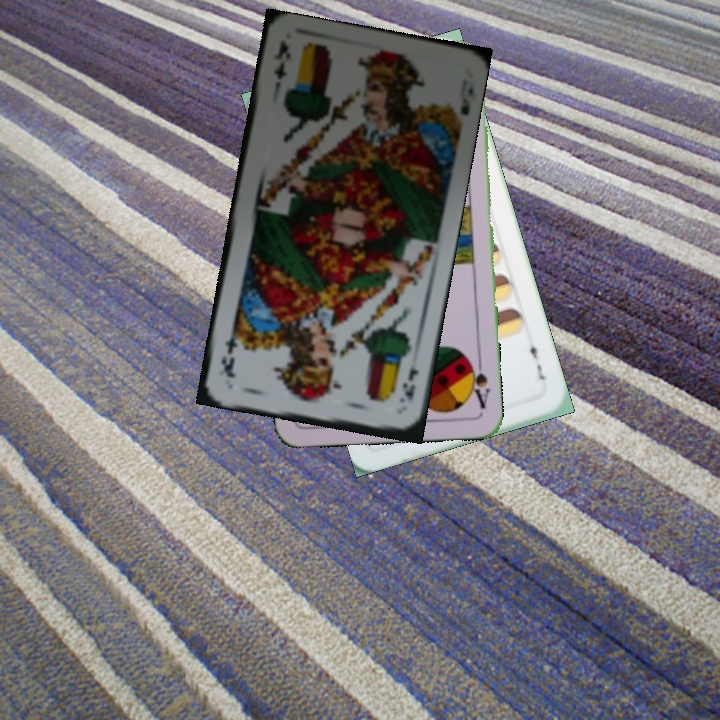E7: (525, 335, 549, 383)
EK: (269, 37, 293, 96), (395, 363, 421, 405)
SA: (464, 353, 492, 411)
